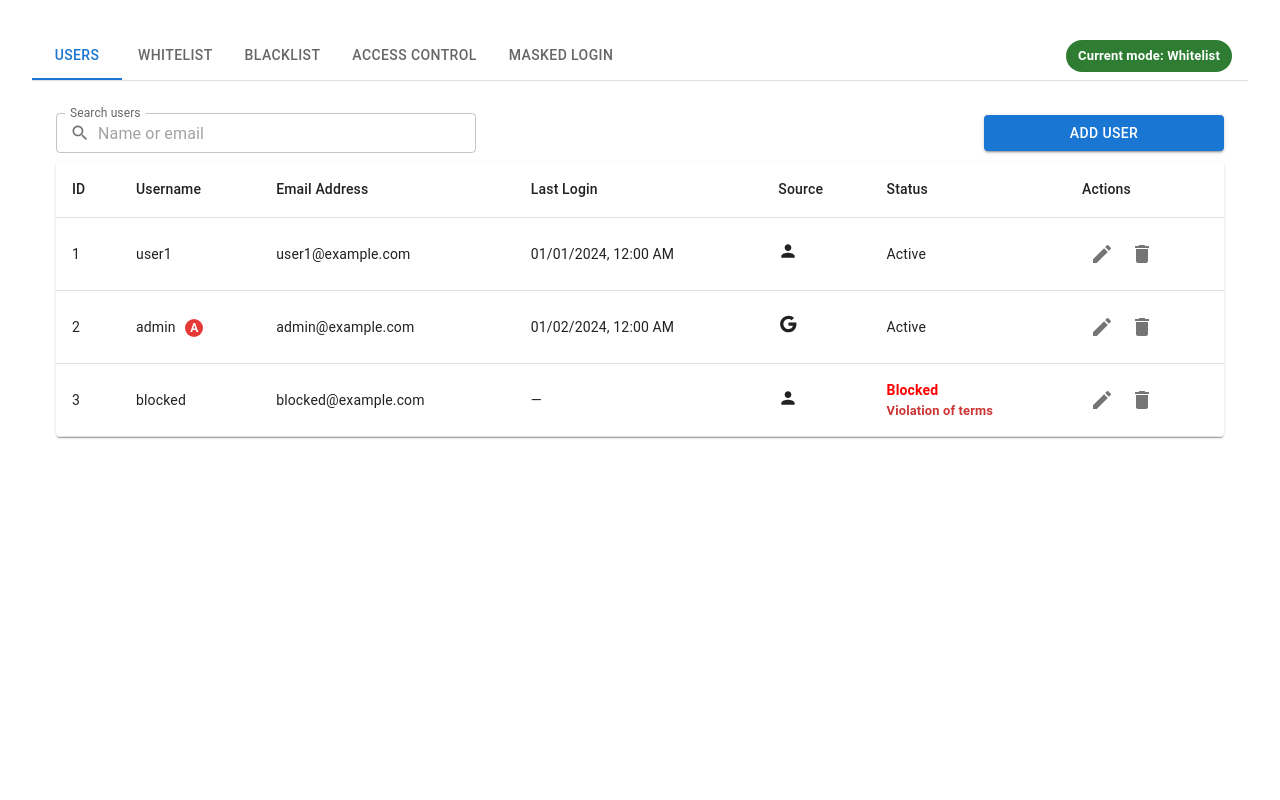
Test: AdminPage › User Management › opens add user dialog when Add User button is clicked
Expected: the text "user1" is shown, [120,218,260,290]
Click the button "Add User".
click(1104, 133)  # box [984,115,1224,151]
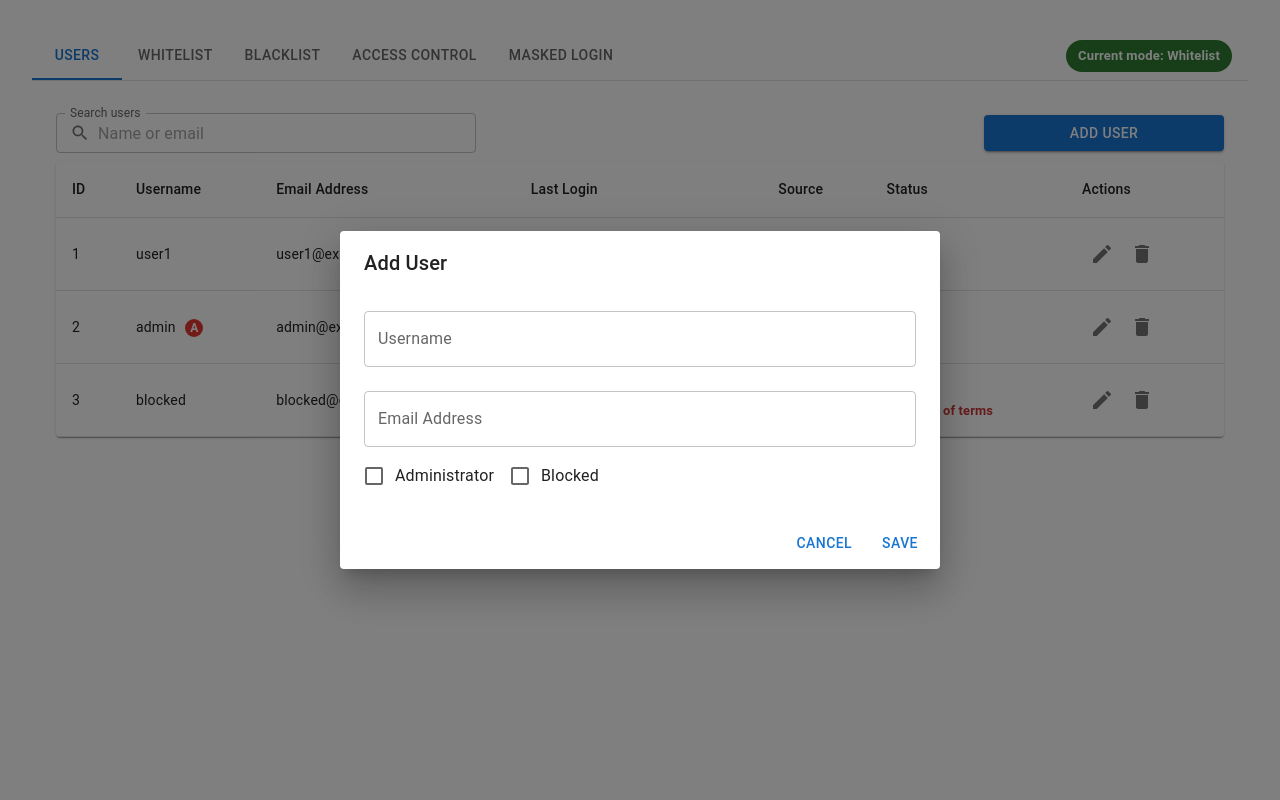
Expected: the dialog is shown, [340,231,940,569]
Expected: the heading "Add User" is shown, [364,251,447,275]
